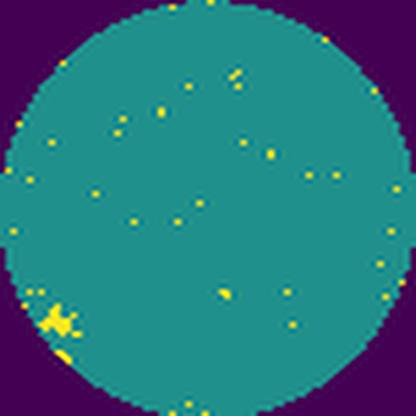Loc: (41, 300, 84, 335)
